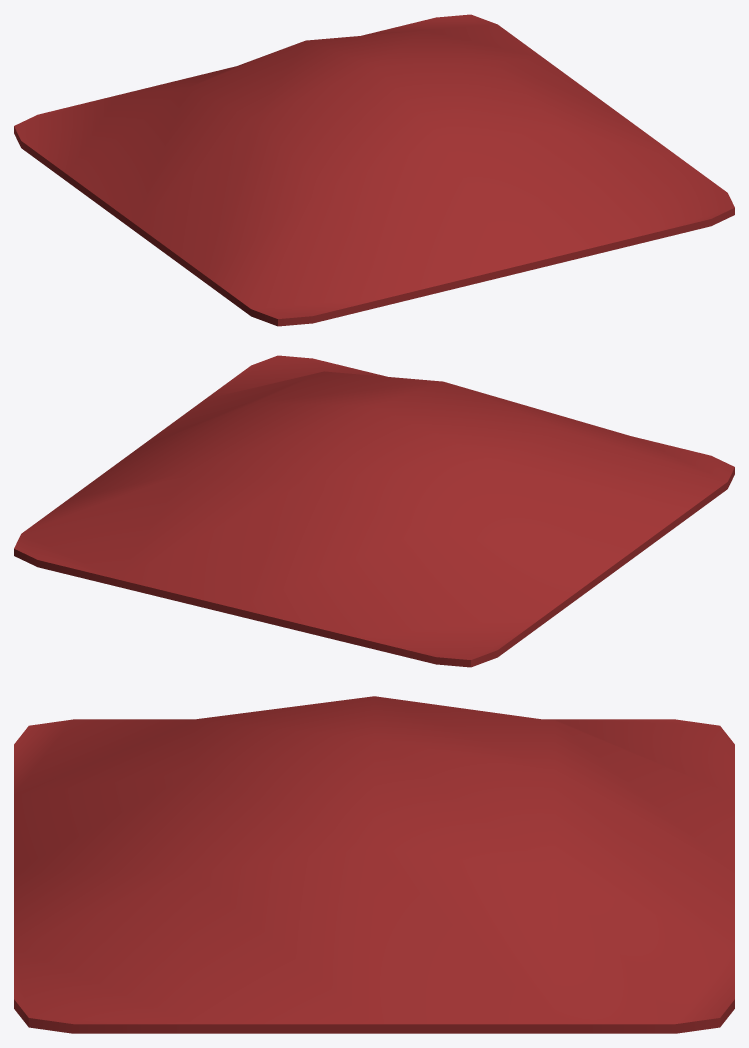
Rendered from SM_pillow_04.fbx.
3 renders of one model, top to bottom at view 1: azimuth 30°, elevation 25°; view 2: azimuth 150°, elevation 25°; view 3: azimuth 270°, elevation 25°, orthographic. The views are drawn at different scales.
Visible parts, largest first — view 1: Box003; view 2: Box003; view 3: Box003.
Boxes of the visible parts, left/top/right/bottom form: Box003: left=14, top=14, right=734, bottom=326; Box003: left=14, top=355, right=734, bottom=667; Box003: left=14, top=696, right=734, bottom=1033.
Bounding box in the file's own units: 19.1 × 19.1 × 6.82.
